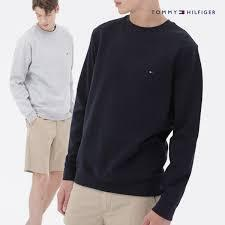short: (24, 112, 76, 176)
sweater: (61, 17, 202, 220), (12, 24, 72, 124)
